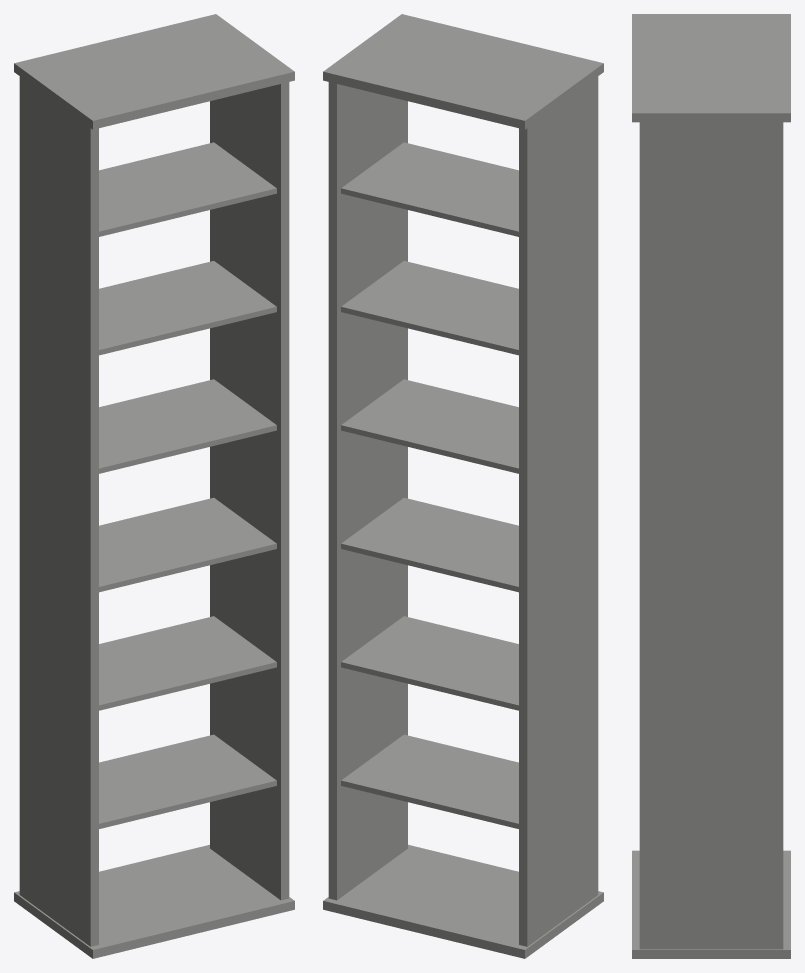
The model's file is Shelf_2.glb.
The picture shows the model from 3 angles, left to right: view 1: azimuth 30°, elevation 25°; view 2: azimuth 150°, elevation 25°; view 3: azimuth 270°, elevation 25°; orthographic projection.
Visible parts, largest first — view 1: Shelf_2; view 2: Shelf_2; view 3: Shelf_2.
Part boxes in pixels (x1,y1,x2,y2): Shelf_2: (14,14,294,958); Shelf_2: (323,14,603,958); Shelf_2: (632,14,790,958).
Size of the model in its own units: 0.5473 by 2.17 by 0.3697.
Materials: 1 (1 with a texture image).
